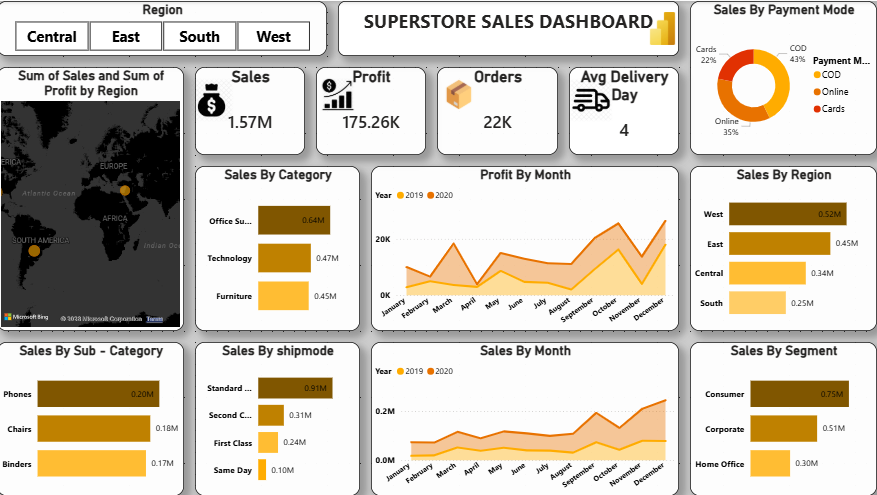

This screenshot's page, from the dashboard's own definition file:
{"tool":"powerbi","page":{"name":"Page 1","canvas":[1280,720],"ordinal":0},"visuals":[{"type":"clusteredBarChart","title":" Sales By Category","fields":{"Category":["Sheet1.Category"],"Y":["Sum(Sheet1.Sales)"]},"box":[288,240,240,240],"z":0},{"type":"clusteredBarChart","title":" Sales By Sub - Category","fields":{"Y":["Sum(Sheet1.Sales)"],"Category":["Sheet1.Sub-Category"]},"box":[0,496,272,224],"z":1000},{"type":"clusteredBarChart","title":" Sales By shipmode","fields":{"Y":["Sum(Sheet1.Sales)"],"Category":["Sheet1.Ship Mode"]},"box":[288,496,240,224],"z":2000},{"type":"stackedAreaChart","title":"Sales By Month","fields":{"Y":["Sum(Sheet1.Sales)"],"Category":["Sheet1.Order Date.Variation.Date Hierarchy.Month","Sheet1.Order Date.Variation.Date Hierarchy.Day"],"Series":["Sheet1.Order Date.Variation.Date Hierarchy.Year"]},"box":[544,496,448,224],"z":3000},{"type":"stackedAreaChart","title":"Profit By Month","fields":{"Category":["Sheet1.Order Date.Variation.Date Hierarchy.Month","Sheet1.Order Date.Variation.Date Hierarchy.Day"],"Series":["Sheet1.Order Date.Variation.Date Hierarchy.Year"],"Y":["Sum(Sheet1.Profit)"]},"box":[544,240,448,240],"z":4000},{"type":"map","fields":{"Category":["Sheet1.Region"],"Size":["Sum(Sheet1.Sales)"]},"box":[0,96,272,384],"z":5000},{"type":"barChart","title":"Sales By Segment","fields":{"Category":["Sheet1.Segment"],"Y":["Sum(Sheet1.Sales)"]},"box":[1008,496,272,224],"z":6000},{"type":"donutChart","title":"Sales By Payment Mode","fields":{"Y":["Sum(Sheet1.Sales)"],"Category":["Sheet1.Payment Mode"]},"box":[1008,0,272,224],"z":7000},{"type":"slicer","title":"Region","fields":{"Values":["Sheet1.Region"]},"box":[0,0,480,80],"z":8000},{"type":"cardVisual","title":"Sales","fields":{"Data":["Sum(Sheet1.Sales)"]},"box":[288,96,160,128],"z":9000},{"type":"cardVisual","title":"Orders","fields":{"Data":["Sum(Sheet1.Quantity)"]},"box":[640,96,176,128],"z":10000},{"type":"cardVisual","title":"Profit","fields":{"Data":["Sum(Sheet1.Profit)"]},"box":[464,96,160,128],"z":11000},{"type":"textbox","box":[496,0,496,80],"z":12000},{"type":"cardVisual","title":"Avg Delivery Day","fields":{"Data":["Avg(Sheet1.Avg Delivery Day)"]},"box":[832,96,160,128],"z":13000},{"type":"barChart","title":"Sales By Region","fields":{"Category":["Sheet1.Region"],"Y":["Sum(Sheet1.Sales)"]},"box":[1008,240,272,240],"z":14000},{"type":"image","box":[608,112,128,48],"z":15000},{"type":"image","box":[416,112,160,48],"z":16000},{"type":"image","box":[816,112,96,64],"z":17000},{"type":"image","box":[912,16,112,48],"z":18000},{"type":"image","box":[256,112,112,64],"z":19000}]}

Visuals, with their boxes in screenshot pixels (x1, y1, x2, y2), scaled from the page's 1280x720 canvas onto the 877x495 screenshot:
" Sales By Category" clusteredBarChart: x1=197, y1=165, x2=362, y2=330
" Sales By Sub - Category" clusteredBarChart: x1=0, y1=341, x2=186, y2=494
" Sales By shipmode" clusteredBarChart: x1=197, y1=341, x2=362, y2=494
"Sales By Month" stackedAreaChart: x1=373, y1=341, x2=680, y2=494
"Profit By Month" stackedAreaChart: x1=373, y1=165, x2=680, y2=330
map - Sheet1.Region x Sum(Sheet1.Sales): x1=0, y1=66, x2=186, y2=330
"Sales By Segment" barChart: x1=691, y1=341, x2=876, y2=494
"Sales By Payment Mode" donutChart: x1=691, y1=0, x2=876, y2=154
"Region" slicer: x1=0, y1=0, x2=329, y2=55
"Sales" cardVisual: x1=197, y1=66, x2=307, y2=154
"Orders" cardVisual: x1=438, y1=66, x2=559, y2=154
"Profit" cardVisual: x1=318, y1=66, x2=428, y2=154
textbox: x1=340, y1=0, x2=680, y2=55
"Avg Delivery Day" cardVisual: x1=570, y1=66, x2=680, y2=154
"Sales By Region" barChart: x1=691, y1=165, x2=876, y2=330
image: x1=417, y1=77, x2=504, y2=110
image: x1=285, y1=77, x2=395, y2=110
image: x1=559, y1=77, x2=625, y2=121
image: x1=625, y1=11, x2=702, y2=44
image: x1=175, y1=77, x2=252, y2=121
